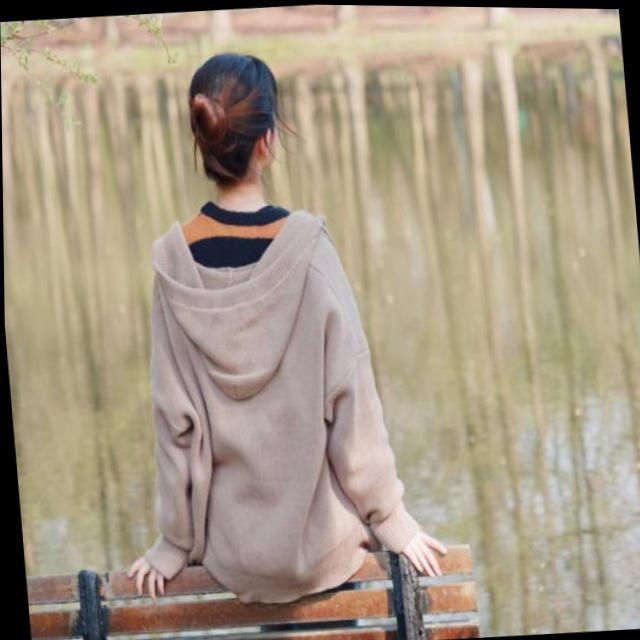no helmet: (178, 48, 291, 189)
